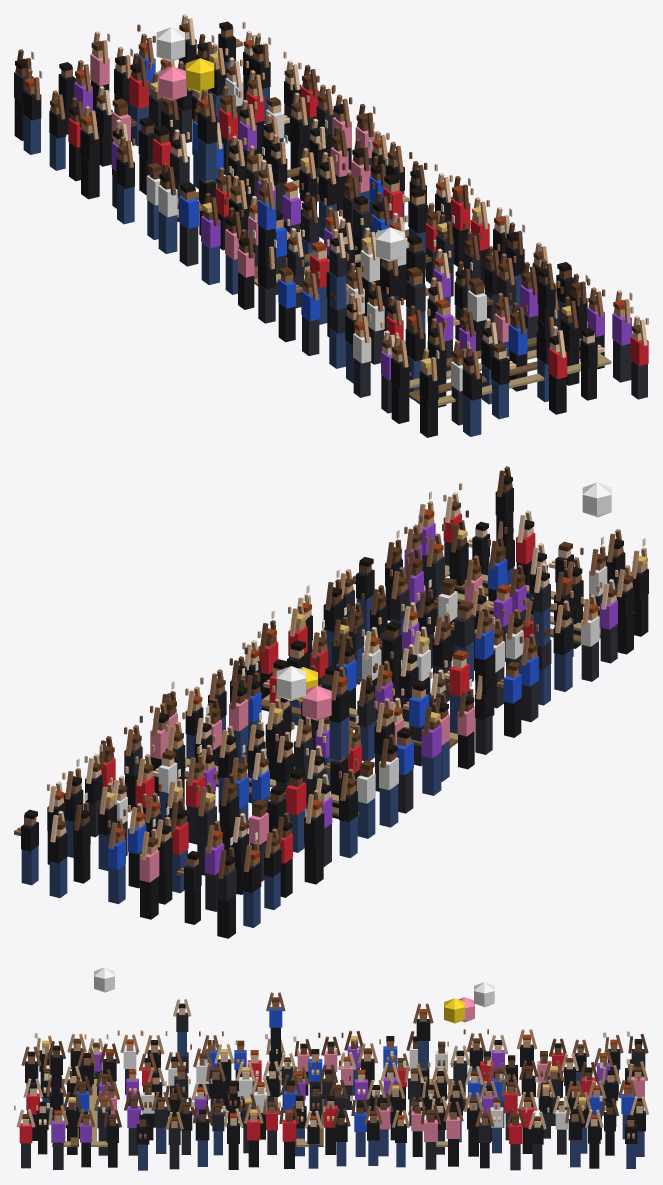
File: publico_concierto_0.obj
3 views of the same model, one above another, from view 1: azimuth 30°, elevation 25°; view 2: azimuth 150°, elevation 25°; view 3: azimuth 270°, elevation 25° (orthographic). The views are drawn at different scales.
Parts seen in each view (by area): view 1: publico_concierto_0; view 2: publico_concierto_0; view 3: publico_concierto_0.
Boxes of the visible parts, bbox=[...] form: publico_concierto_0: bbox=[14, 14, 648, 437]; publico_concierto_0: bbox=[14, 466, 648, 938]; publico_concierto_0: bbox=[14, 967, 648, 1170].
Size of the model in its own units: 5.61 by 4.1 by 18.23.
